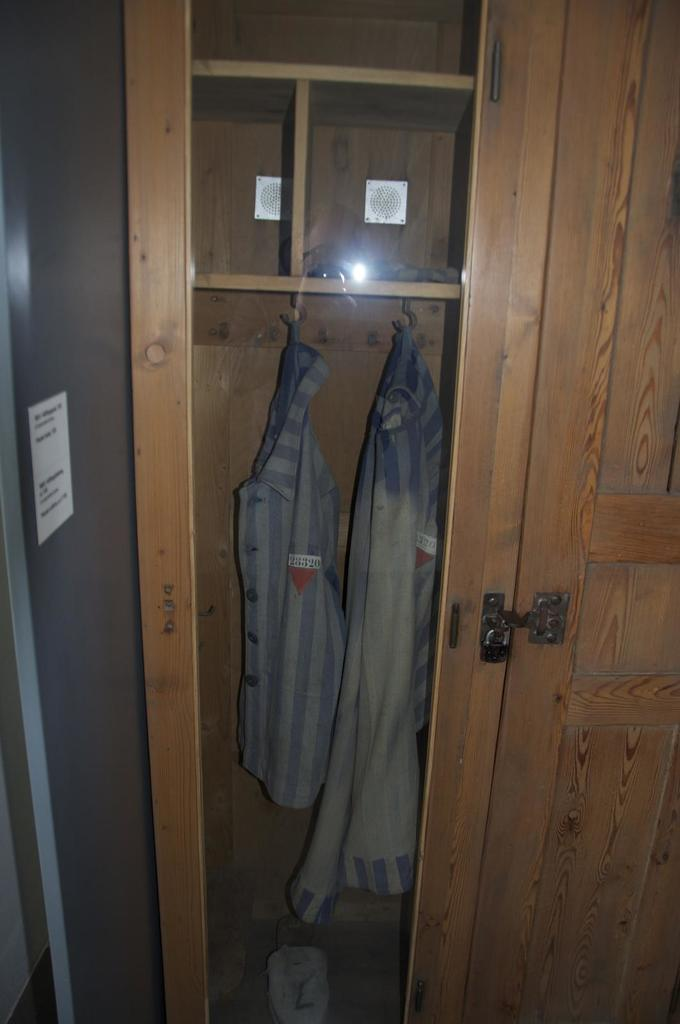door: (451, 22, 680, 1006)
handle: (481, 580, 576, 682)
